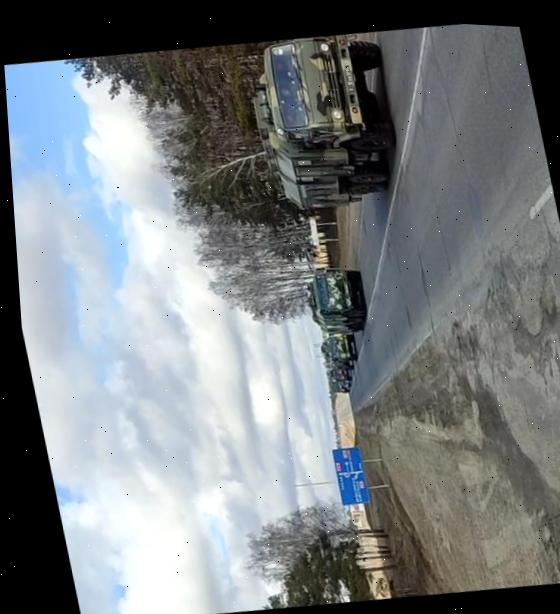truck: (235, 22, 416, 222), (301, 261, 382, 341), (315, 324, 359, 369)
